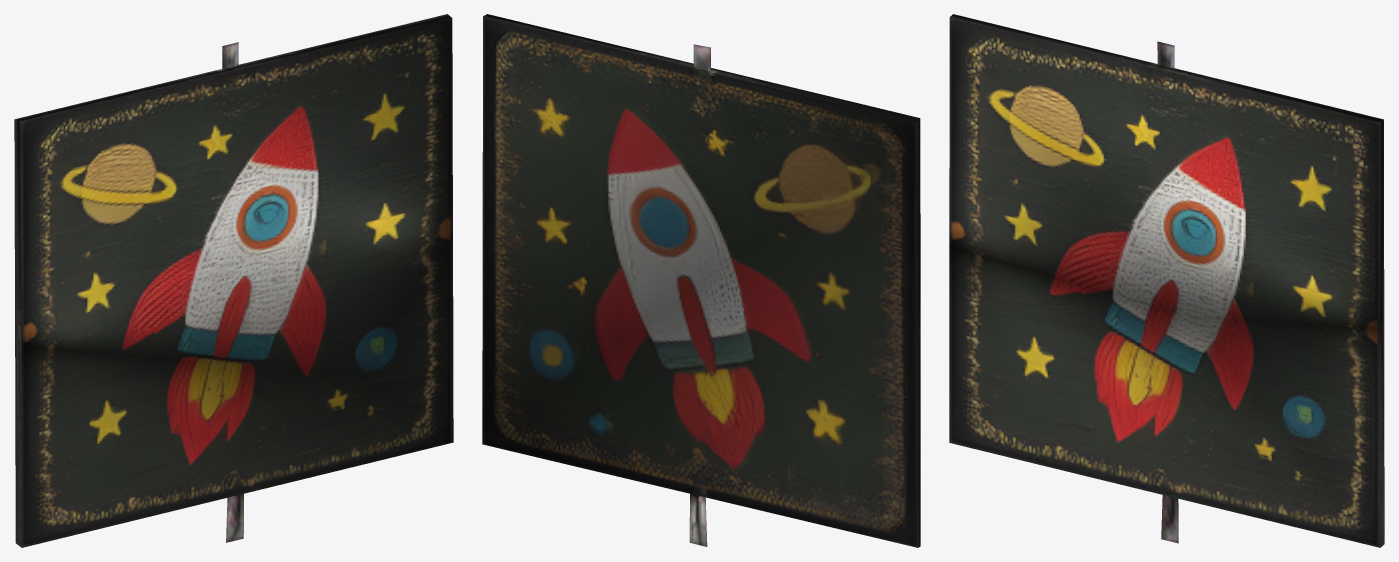
File: all  kids_paintings6.fbx
The picture shows the model from 3 angles, left to right: view 1: azimuth 30°, elevation 25°; view 2: azimuth 150°, elevation 25°; view 3: azimuth 330°, elevation 25°; orthographic projection.
Visible parts, largest first — view 1: all kids_paintings6; view 2: all kids_paintings6; view 3: all kids_paintings6.
Part boxes in pixels (x1=…): all kids_paintings6: x1=14, y1=14, x2=453, y2=547; all kids_paintings6: x1=482, y1=14, x2=920, y2=547; all kids_paintings6: x1=949, y1=14, x2=1384, y2=547.
Bounding box in the file's own units: 136 × 149 × 3.01.
Materials: 1 (1 with a texture image).
